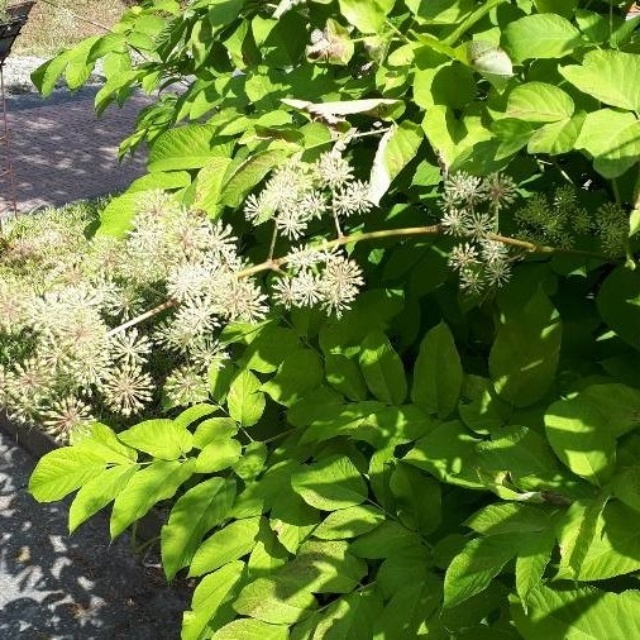obstacle: (39, 328, 591, 613), (47, 1, 589, 245)
